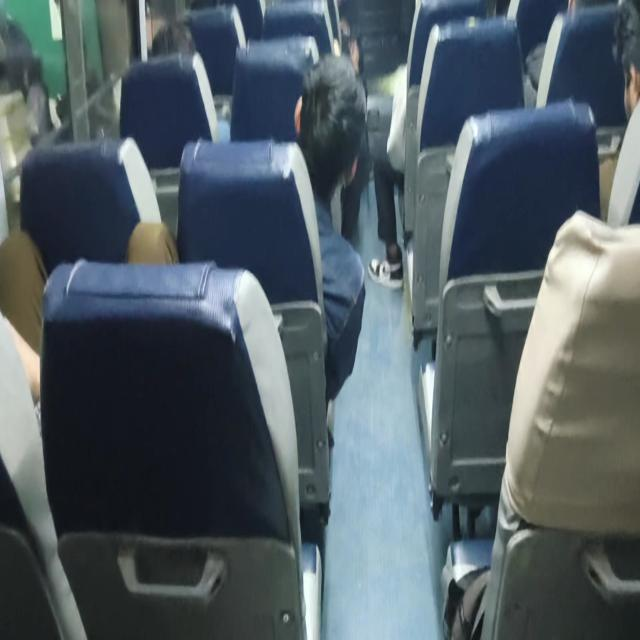person: (299, 59, 359, 161), (138, 20, 208, 74), (606, 8, 640, 118), (154, 0, 228, 28)
